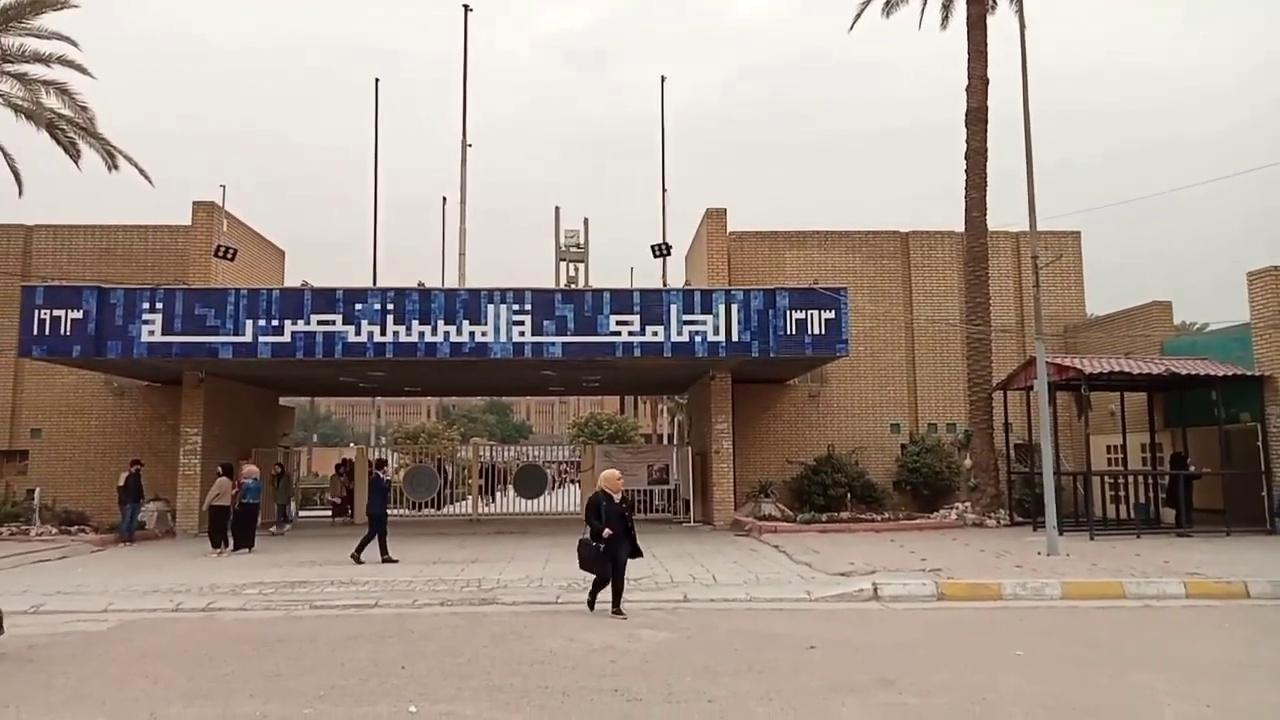person: (582, 467, 644, 618), (349, 457, 399, 564), (201, 461, 236, 556), (230, 462, 262, 553), (116, 458, 145, 546), (268, 461, 293, 534), (328, 461, 351, 525)
tree: (847, 0, 1008, 515), (0, 0, 155, 199), (565, 408, 645, 518), (1, 485, 118, 547), (784, 441, 881, 513), (892, 429, 966, 512), (565, 408, 645, 446), (736, 475, 794, 521)
